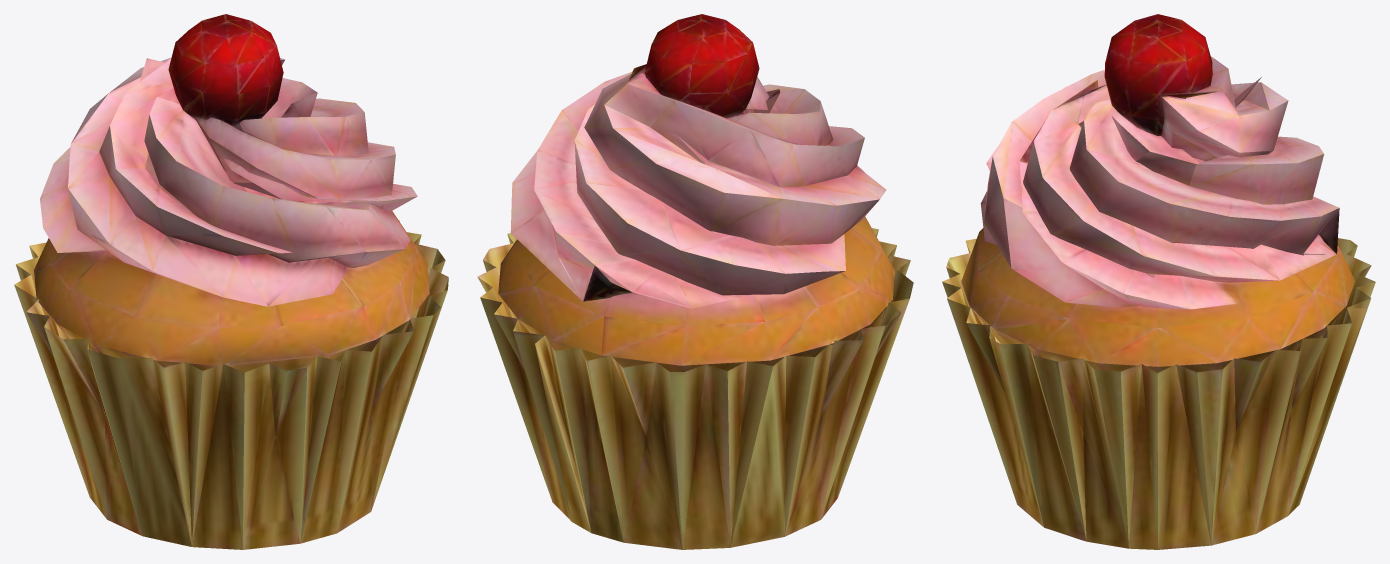
File: cupcake.glb
The picture shows the model from 3 angles, left to right: view 1: azimuth 30°, elevation 25°; view 2: azimuth 150°, elevation 25°; view 3: azimuth 270°, elevation 25°; orthographic projection.
Parts seen in each view (by area): view 1: Mesh_0; view 2: Mesh_0; view 3: Mesh_0.
Boxes of the visible parts, x1=… form: Mesh_0: x1=14, y1=14, x2=448, y2=549; Mesh_0: x1=477, y1=14, x2=913, y2=549; Mesh_0: x1=942, y1=14, x2=1375, y2=549.
Size of the model in its own units: 7.16 by 8.5 by 7.19.
Materials: 1 (1 with a texture image).
